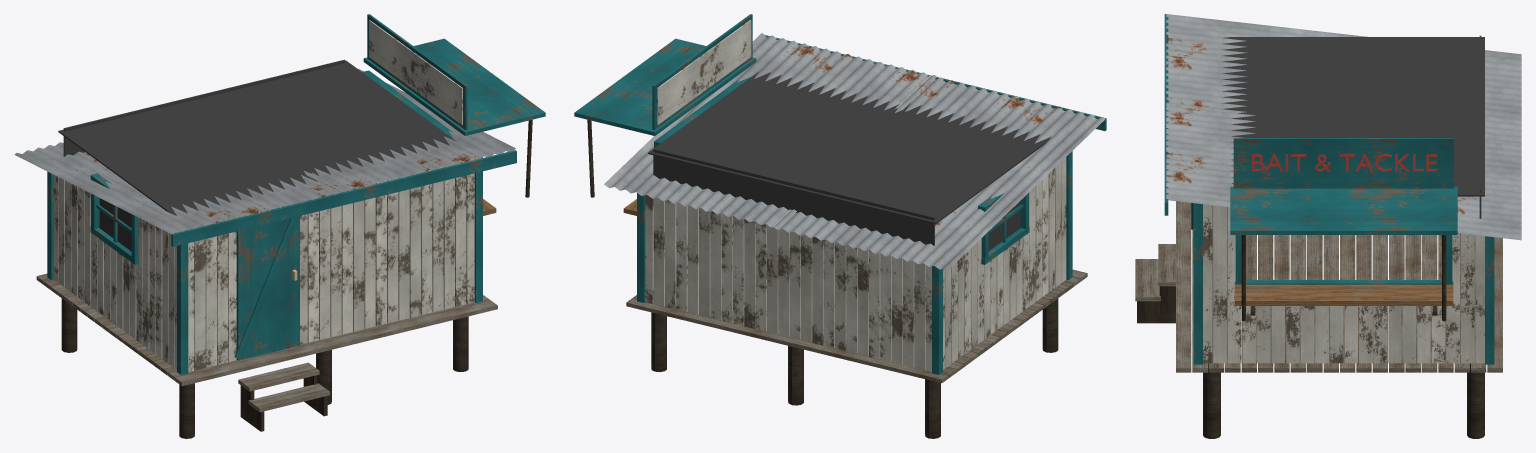
Rendered from bait_shack.glb.
3 renders of one model, left to right at view 1: azimuth 30°, elevation 25°; view 2: azimuth 150°, elevation 25°; view 3: azimuth 270°, elevation 25°, orthographic. The views are drawn at different scales.
Visible parts, largest first — view 1: tw_shack; view 2: tw_shack; view 3: tw_shack, Text.
Part boxes in pixels (x1,y1,x2,y2): tw_shack: (14,14,545,438); tw_shack: (574,14,1106,438); tw_shack: (1135,14,1521,438); Text: (1252,154,1437,171).
Bounding box in the file's own units: 5.73 × 3.7 × 4.24.
Materials: 9 (6 with a texture image).
